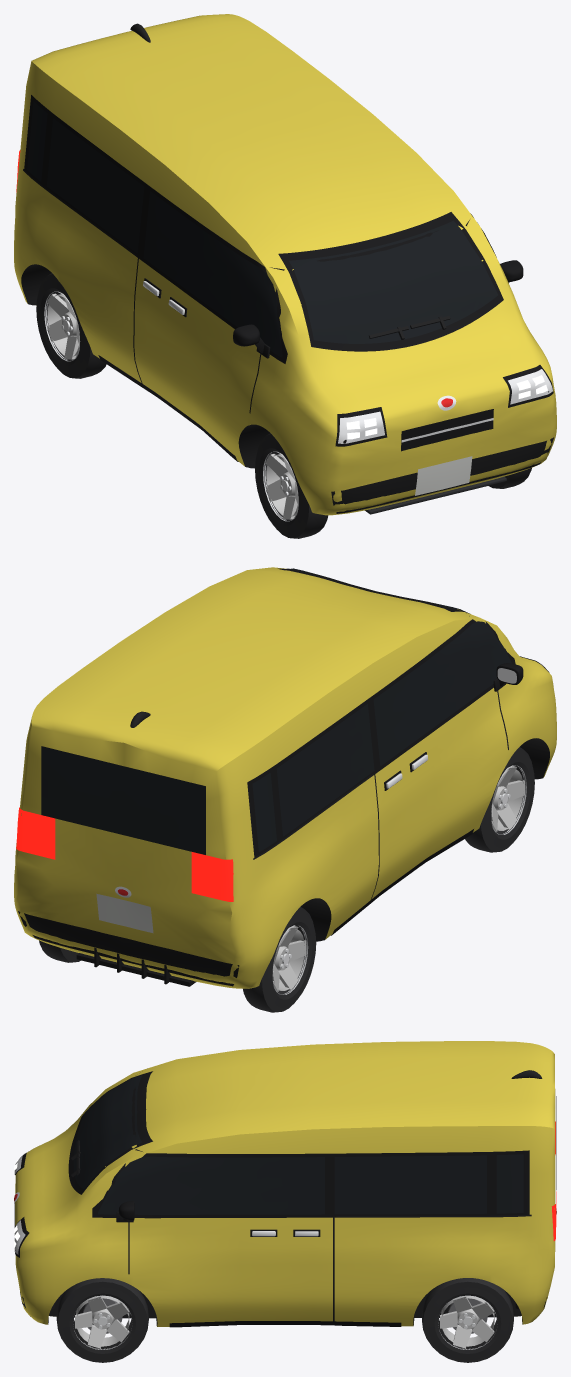
The model's file is tr_kei.glb.
The picture shows the model from 3 angles, top to bottom: view 1: azimuth 30°, elevation 25°; view 2: azimuth 150°, elevation 25°; view 3: azimuth 270°, elevation 25°; orthographic projection. The views are drawn at different scales.
Visible parts, largest first — view 1: Body, Wheel_FR, Wheel_RR; view 2: Body, Wheel_RR, Wheel_FR; view 3: Body, Wheel_RL, Wheel_FL.
Boxes of the visible parts, bbox=[...] form: Body: bbox=[14, 14, 556, 515]; Wheel_FR: bbox=[255, 433, 328, 538]; Wheel_RR: bbox=[36, 273, 106, 378]; Body: bbox=[14, 567, 556, 988]; Wheel_RR: bbox=[243, 907, 316, 1012]; Wheel_FR: bbox=[465, 747, 534, 852]; Body: bbox=[14, 1041, 556, 1327]; Wheel_RL: bbox=[422, 1278, 513, 1362]; Wheel_FL: bbox=[56, 1278, 148, 1362].
Bounding box in the file's own units: 1.74 × 1.72 × 3.42.
